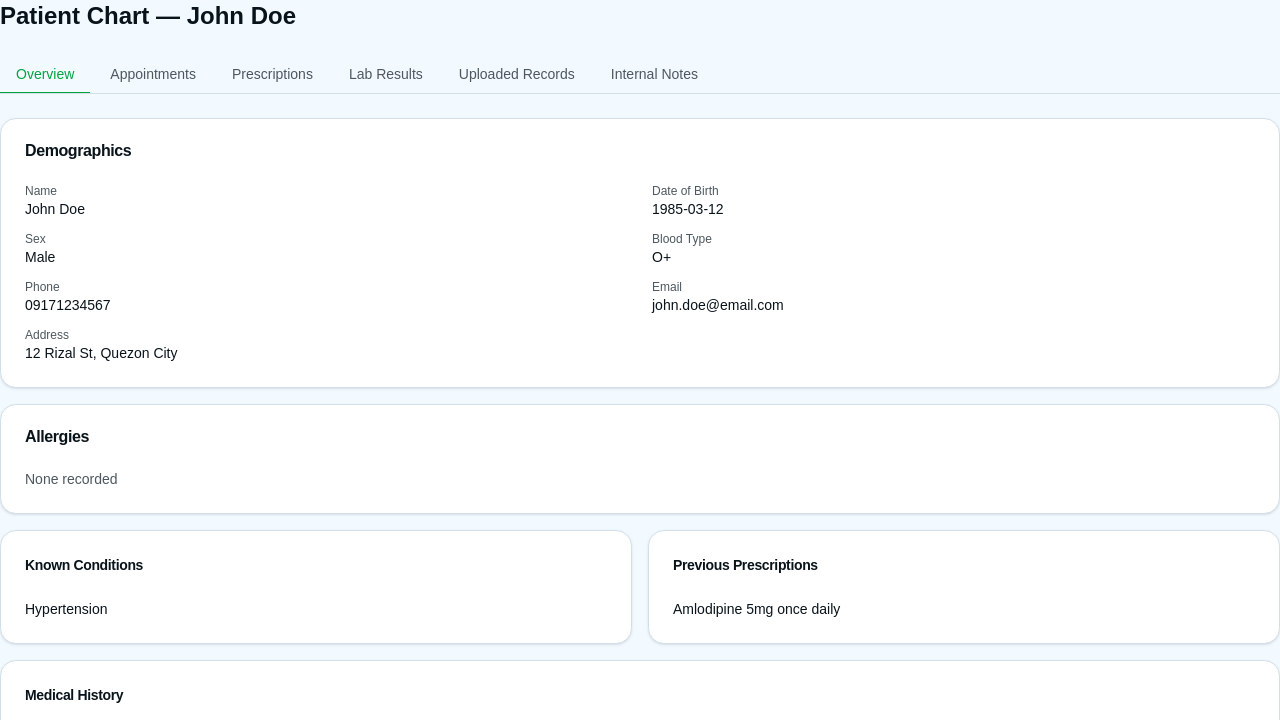
Test: Prescriptions UI (CC-59) › New Prescription button shows form in Prescriptions tab
Click the button "Prescriptions" at [272, 75], box x1=216 y1=56 x2=329 y2=94
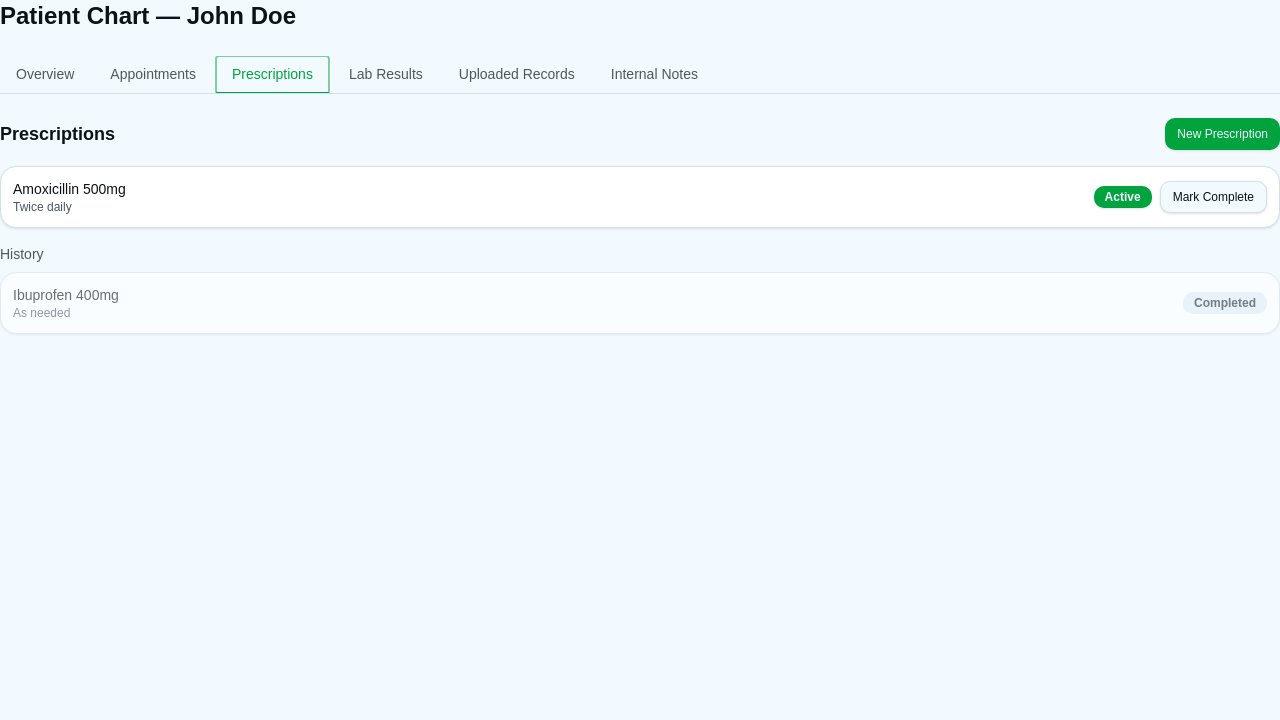
Click the button "New Prescription" at [1223, 134], box x1=1165 y1=118 x2=1279 y2=150
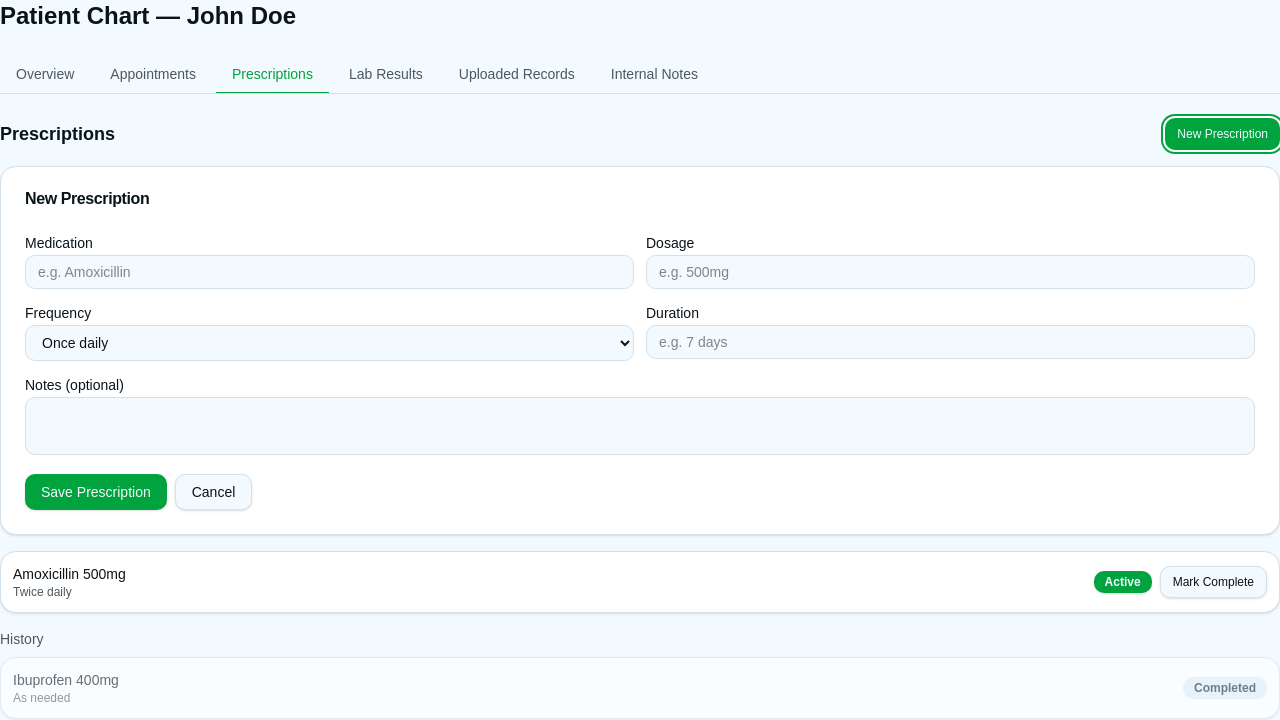
Result: the field labelled "Medication" is shown at x1=25 y1=255 x2=634 y2=289
